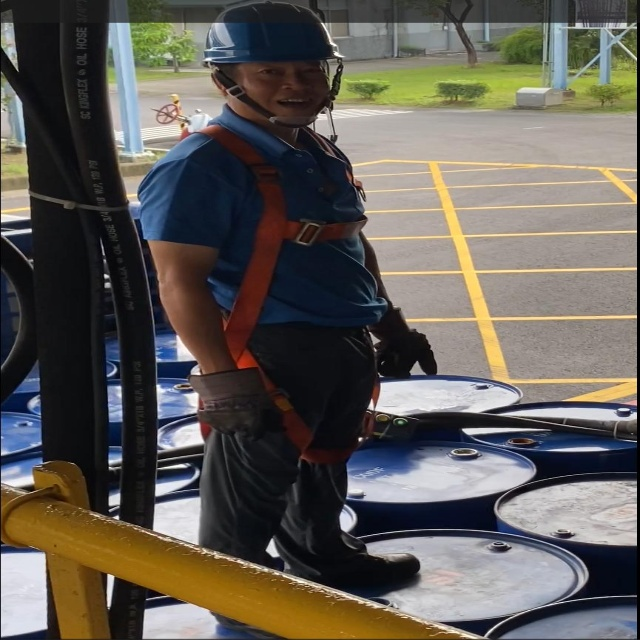Arnes_seguridad: (180, 123, 395, 510)
